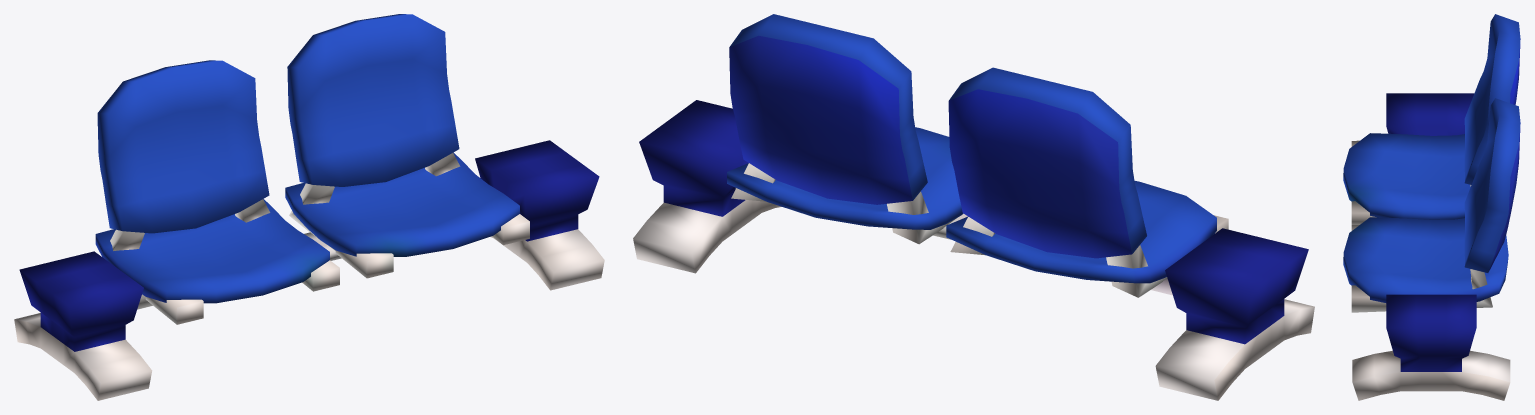
The model's file is CadeirasHospitalar2Lugares.fbx.
3 views of the same model, side by side, from view 1: azimuth 30°, elevation 25°; view 2: azimuth 150°, elevation 25°; view 3: azimuth 270°, elevation 25° (orthographic). The views are drawn at different scales.
Parts seen in each view (by area): view 1: CadeirasHospitalar2Lugares; view 2: CadeirasHospitalar2Lugares; view 3: CadeirasHospitalar2Lugares.
Boxes of the visible parts, <box> form: CadeirasHospitalar2Lugares: <box>14,14,604,400</box>; CadeirasHospitalar2Lugares: <box>633,14,1314,400</box>; CadeirasHospitalar2Lugares: <box>1343,14,1520,400</box>.
Bounding box in the file's own units: 207 × 89.01 × 66.
1 material, 1 textured.
